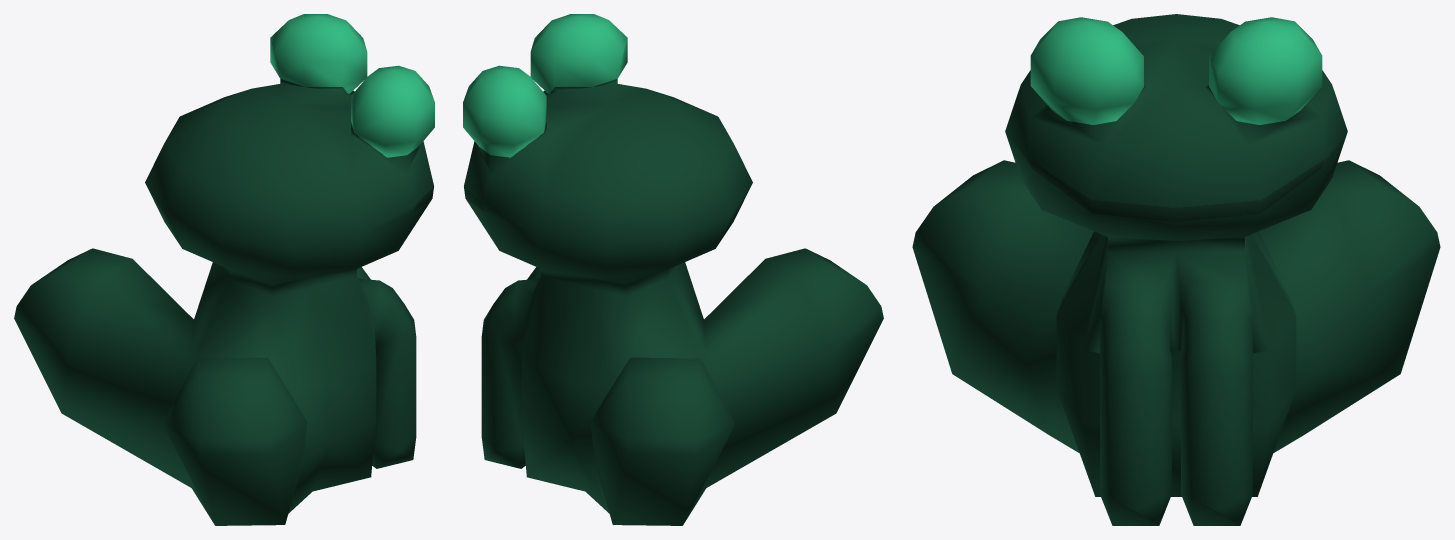
The model's file is FrogStatue.glb.
The picture shows the model from 3 angles, left to right: view 1: azimuth 30°, elevation 25°; view 2: azimuth 150°, elevation 25°; view 3: azimuth 270°, elevation 25°; orthographic projection. The views are drawn at different scales.
Parts seen in each view (by area): view 1: LOD0; view 2: LOD0; view 3: LOD0.
Boxes of the visible parts, x1,y1,x2,y2 form: LOD0: (14, 14, 434, 525); LOD0: (463, 14, 883, 525); LOD0: (912, 14, 1440, 525).
Bounding box in the file's own units: 7.18 × 9.09 × 8.96.
1 material, 1 textured.
